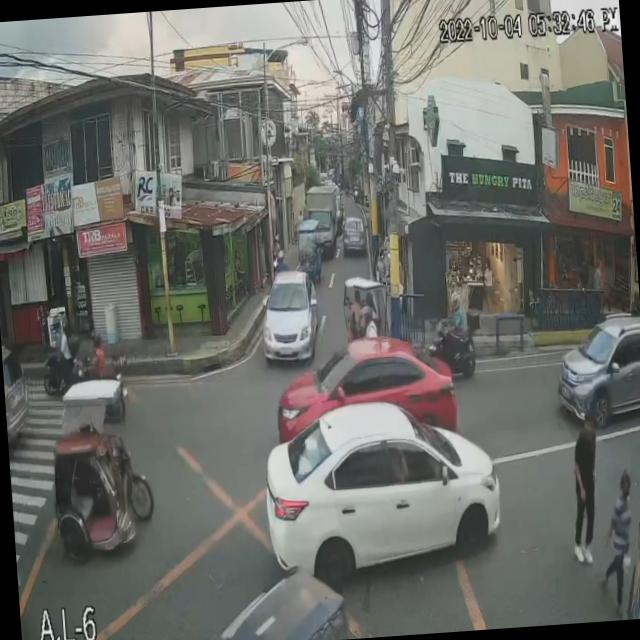full: (448, 292, 461, 314)
half: (360, 303, 374, 324)
